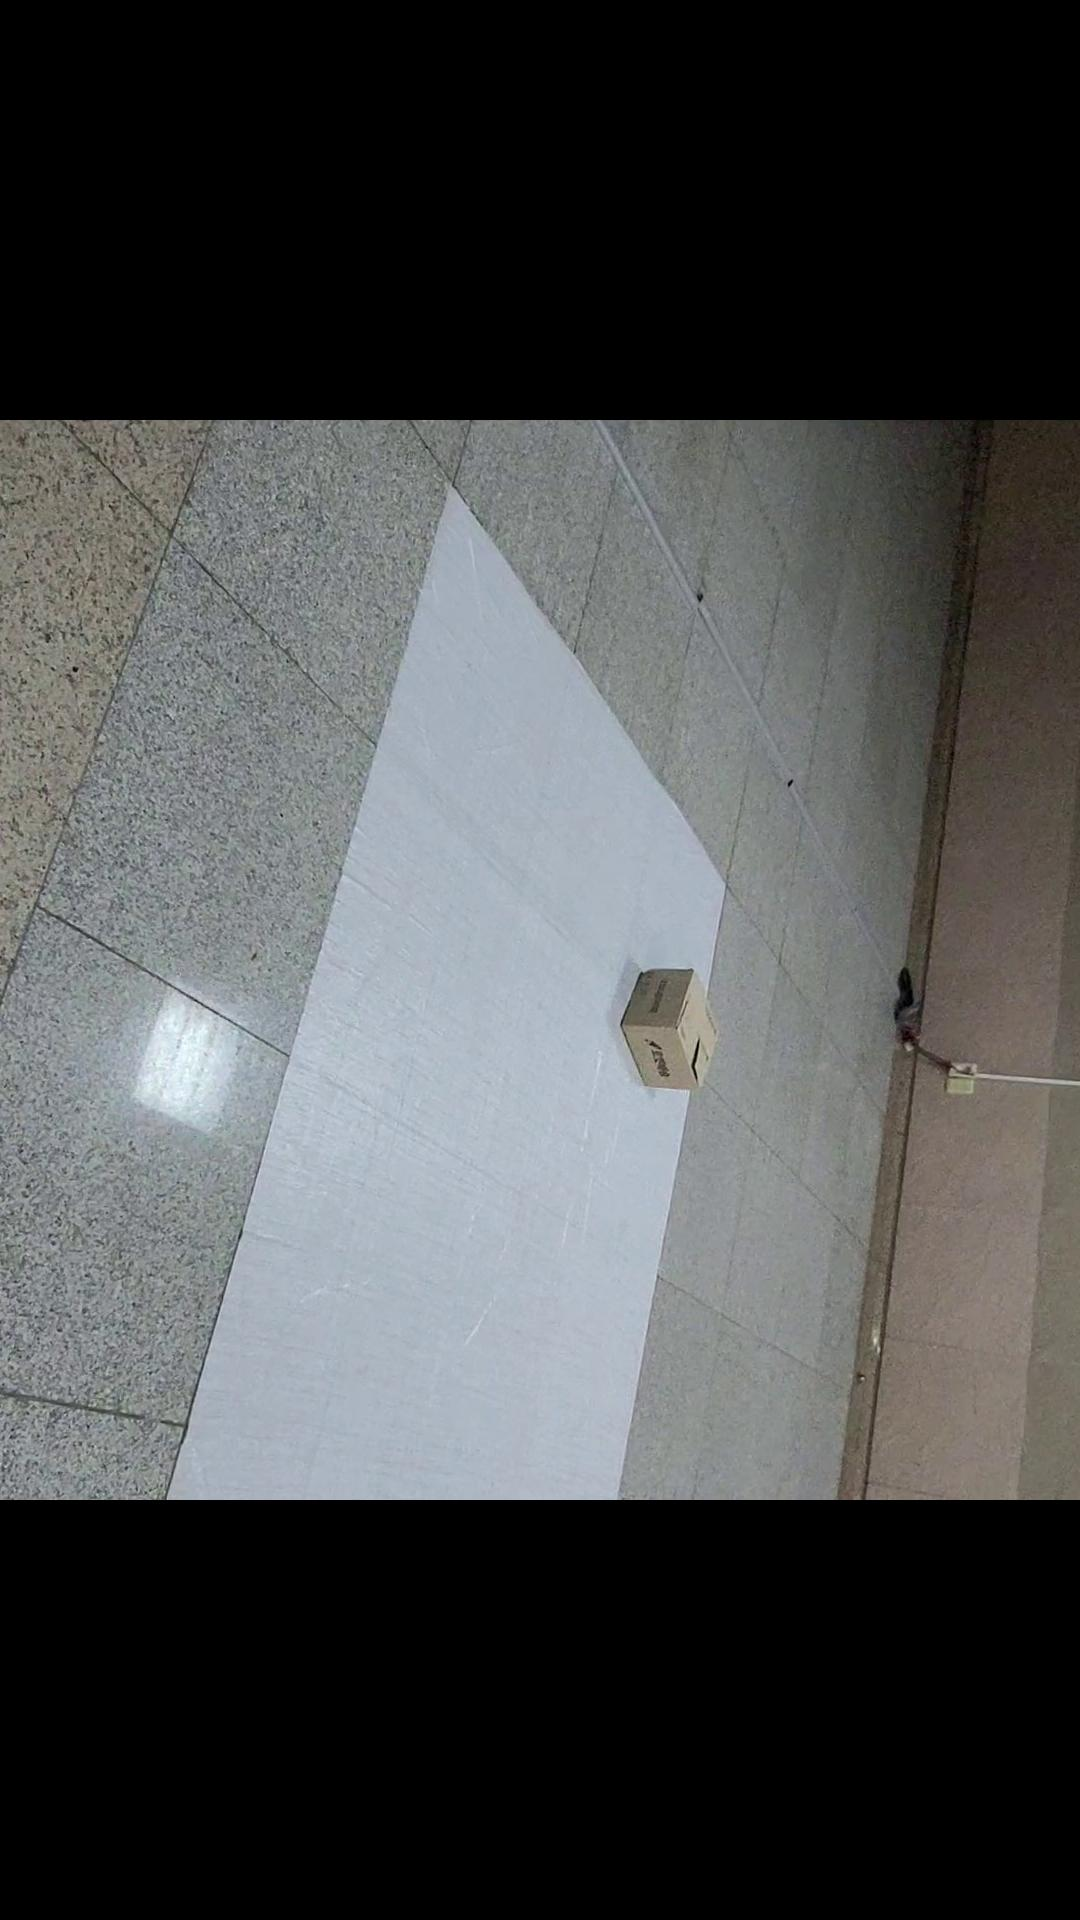Box: (612, 963, 727, 1097)
